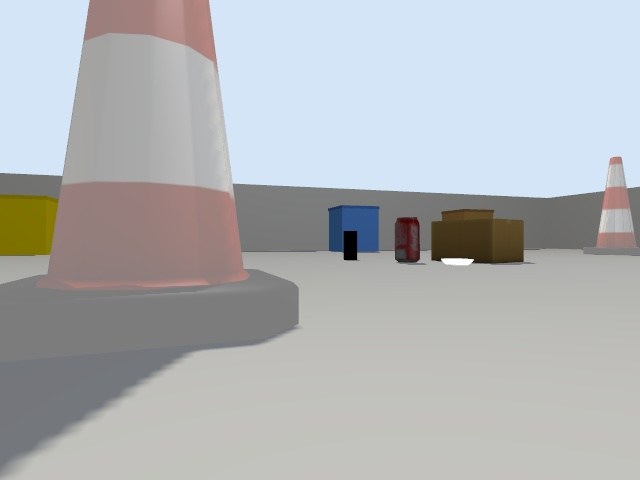bol: (442, 258, 473, 265)
bouteille_verre: (343, 231, 357, 260)
canette: (396, 217, 419, 261)
carton: (431, 209, 523, 263)
cone_chantier: (42, 0, 247, 287), (583, 157, 639, 255)
